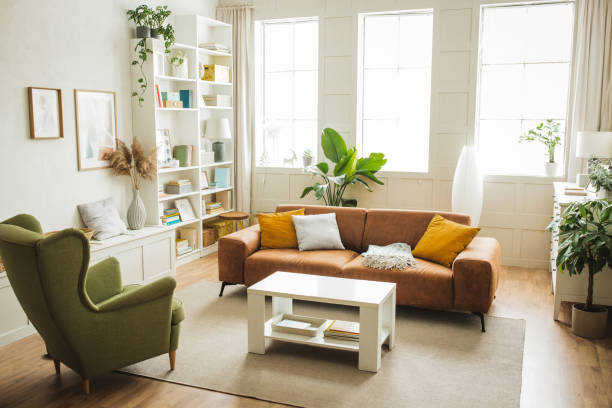chair: (0, 212, 187, 395)
flower vase: (105, 138, 156, 230)
large plant: (554, 197, 612, 341), (300, 127, 388, 209)
small plant: (519, 114, 566, 177), (126, 12, 171, 71), (587, 162, 612, 198)
sofa: (214, 200, 502, 334)
table: (244, 268, 397, 374)
table lamp: (574, 126, 612, 184), (203, 111, 233, 162)
wall art: (72, 87, 120, 173), (25, 83, 65, 141)
